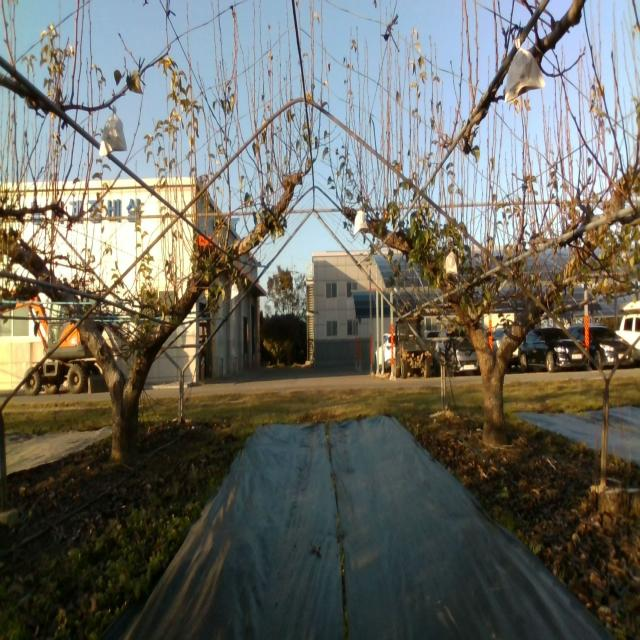pearbags: (502, 38, 546, 108), (98, 104, 128, 158), (353, 210, 369, 237), (445, 248, 458, 276)
